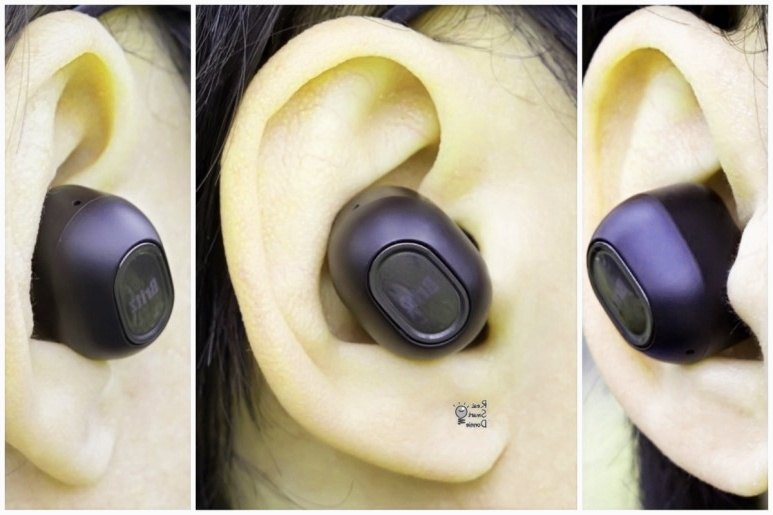earphone: (221, 16, 520, 483), (582, 5, 769, 499), (6, 9, 174, 483)
